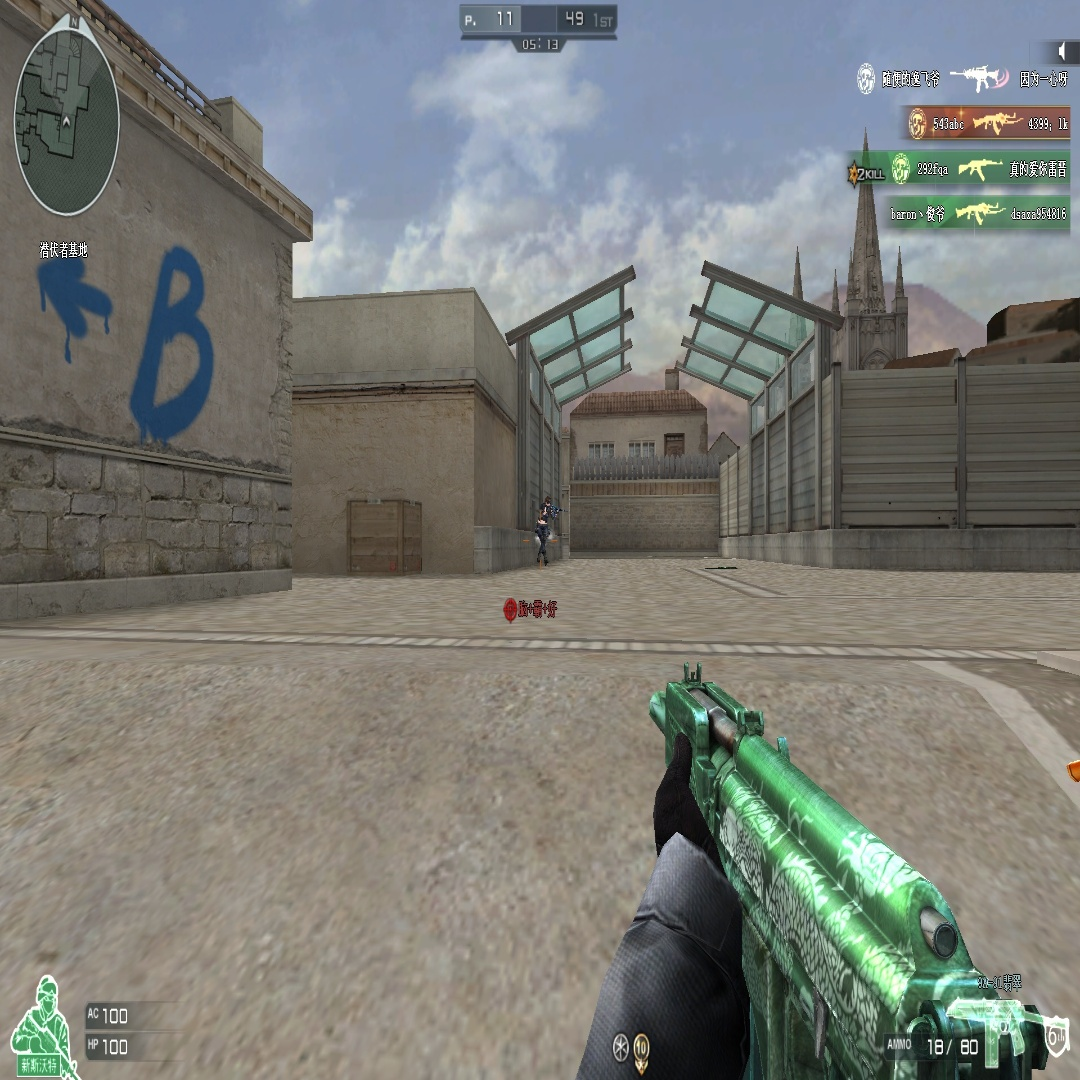p: (534, 492, 556, 567)
